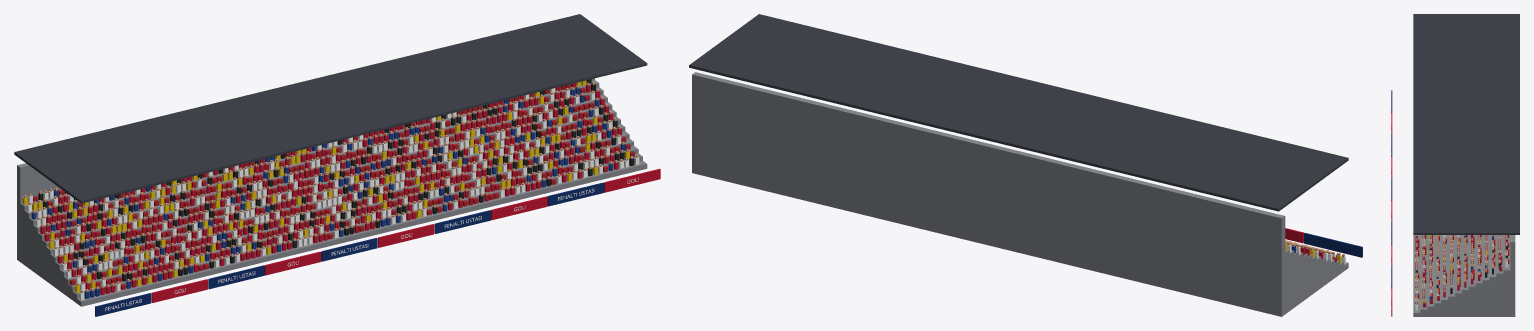
The model's file is tribun.glb.
3 renders of one model, left to right at view 1: azimuth 30°, elevation 25°; view 2: azimuth 150°, elevation 25°; view 3: azimuth 270°, elevation 25°, orthographic. The views are drawn at different scales.
Visible parts, largest first — view 1: Tribun, Pano, PanoYazilari; view 2: Tribun, Pano; view 3: Tribun, Pano, PanoYazilari.
Part boxes in pixels (x1=…): Tribun: x1=14, y1=14, x2=647, y2=306; Pano: x1=95, y1=168, x2=660, y2=316; PanoYazilari: x1=105, y1=177, x2=638, y2=311; Tribun: x1=689, y1=14, x2=1348, y2=316; Pano: x1=1285, y1=228, x2=1362, y2=257; Tribun: x1=1413, y1=14, x2=1519, y2=316; Pano: x1=1391, y1=90, x2=1392, y2=316; PanoYazilari: x1=1391, y1=96, x2=1391, y2=305.
Bounding box in the file's own units: 60 × 10.7 × 14.91.
